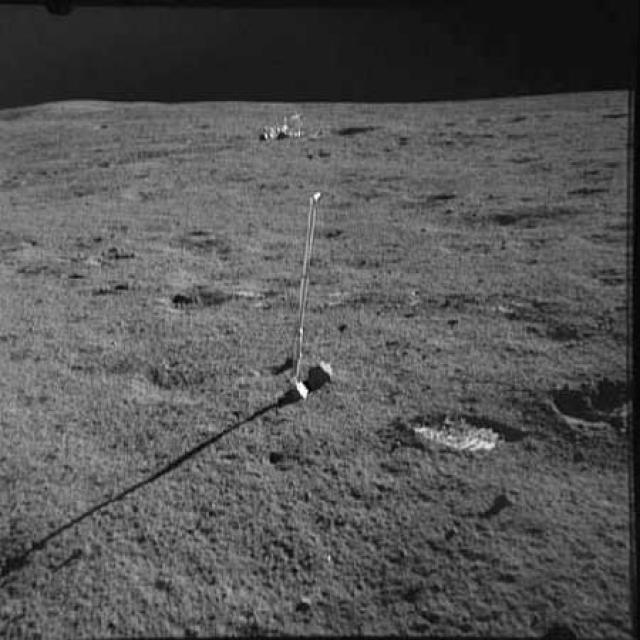crater: (125, 354, 216, 414), (414, 200, 558, 234), (146, 280, 228, 320), (312, 112, 390, 144), (563, 174, 613, 205), (253, 443, 297, 473), (405, 183, 461, 205), (62, 269, 87, 284)
rock: (486, 487, 528, 513), (291, 588, 321, 617)
